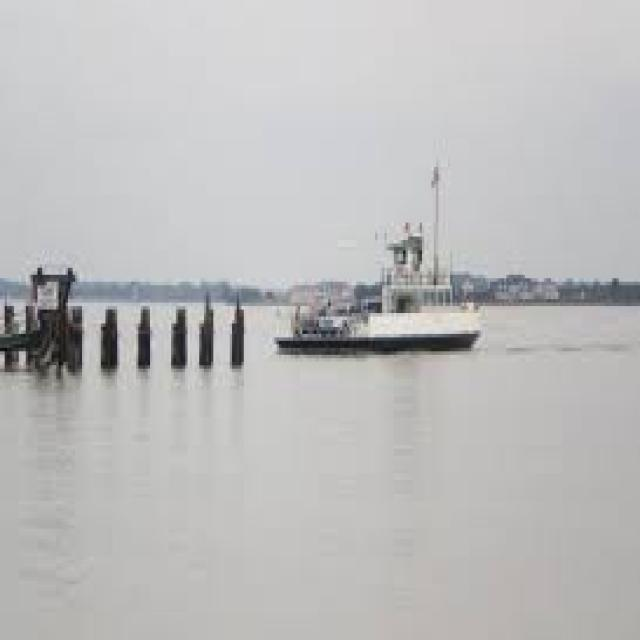houseboat: (277, 162, 485, 352)
